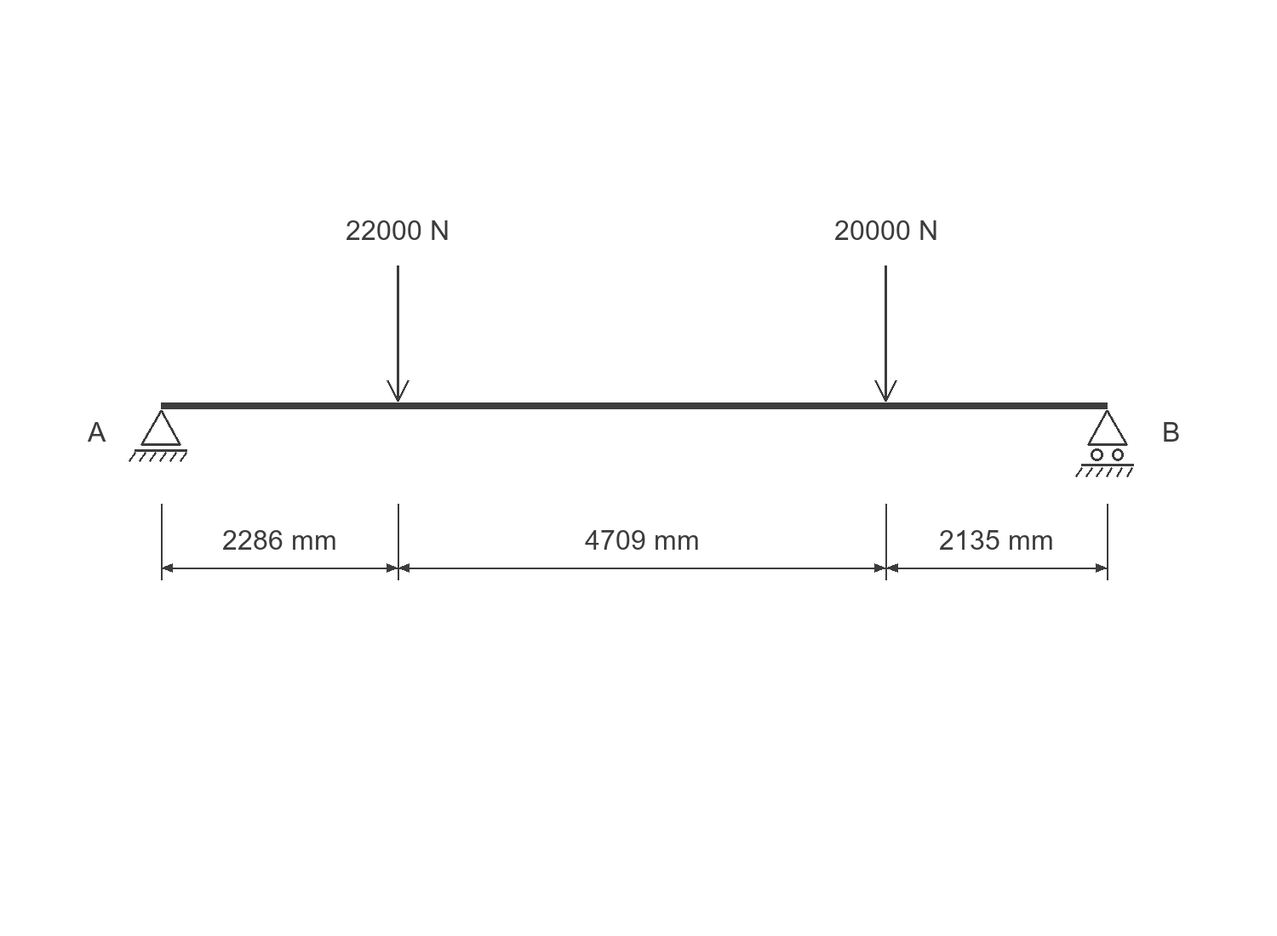pin_support: (129, 410, 187, 462)
point_load: (874, 265, 897, 402), (387, 265, 409, 402)
roller_support: (1075, 410, 1134, 477)
